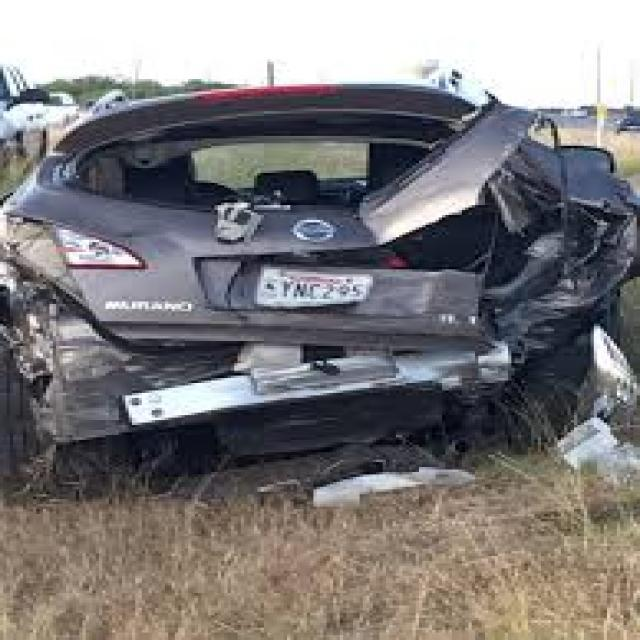damaged-trunk: (84, 114, 530, 332)
